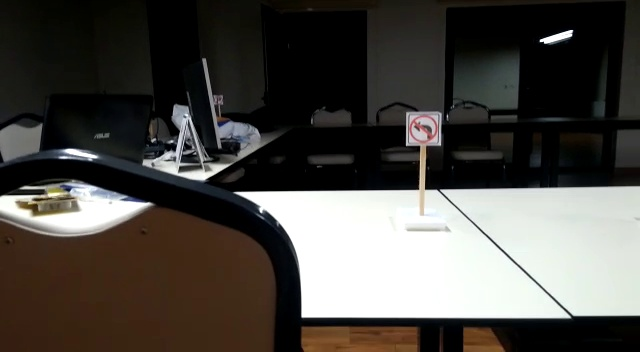sola_donulmez: (407, 110, 441, 146)
